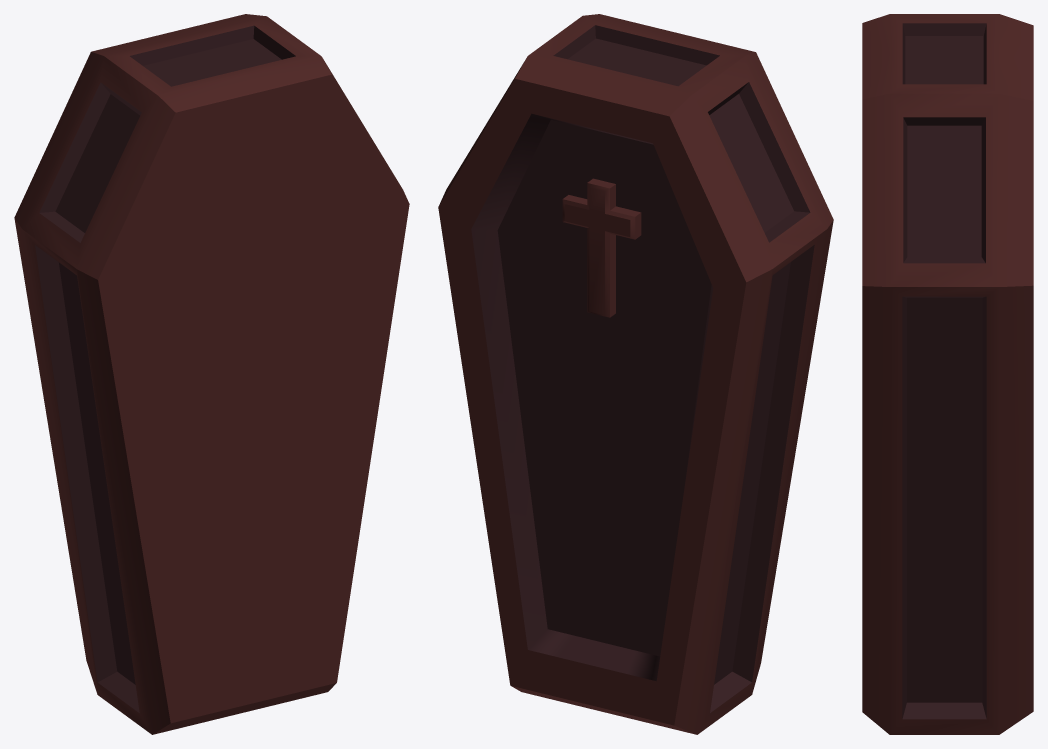
File: Coffin.fbx
3 renders of one model, left to right at view 1: azimuth 30°, elevation 25°; view 2: azimuth 150°, elevation 25°; view 3: azimuth 270°, elevation 25°, orthographic.
Parts seen in each view (by area): view 1: Coffin; view 2: Coffin; view 3: Coffin.
Boxes of the visible parts, x1=… form: Coffin: x1=14, y1=14, x2=409, y2=734; Coffin: x1=438, y1=14, x2=833, y2=734; Coffin: x1=862, y1=14, x2=1033, y2=734.
Bounding box in the file's own units: 3.36 × 6.27 × 1.53.
